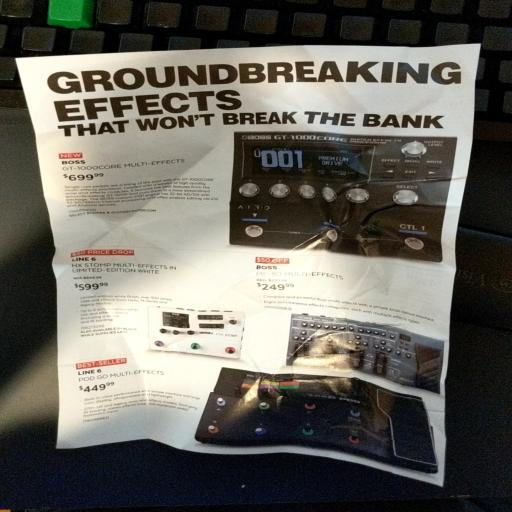paper: (8, 22, 512, 512)
